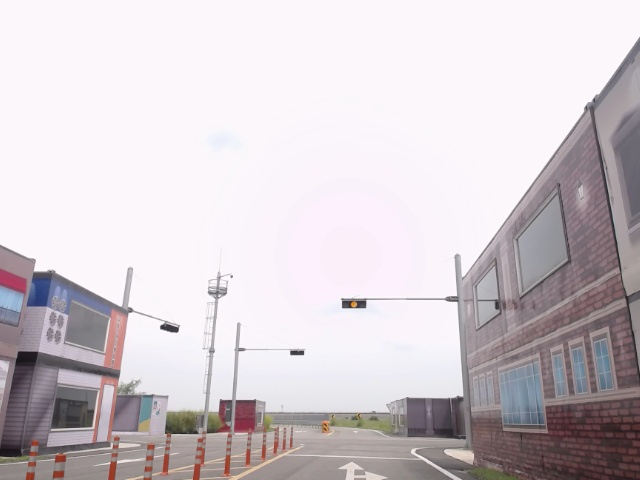orange_3: (341, 299, 366, 309)
